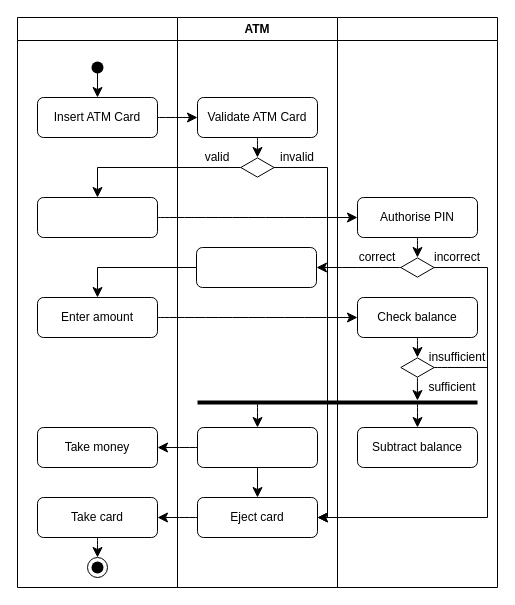
This 515x605 diagram has some shape labels left out. Here are the shapes that lost their labels. From the top down, the box of each, then its label:
(36, 196, 158, 238): Enter PIN
(196, 246, 316, 288): Display account info
(16, 16, 178, 588): Customer
(336, 16, 498, 588): Bank
(196, 426, 318, 468): Deposit money
